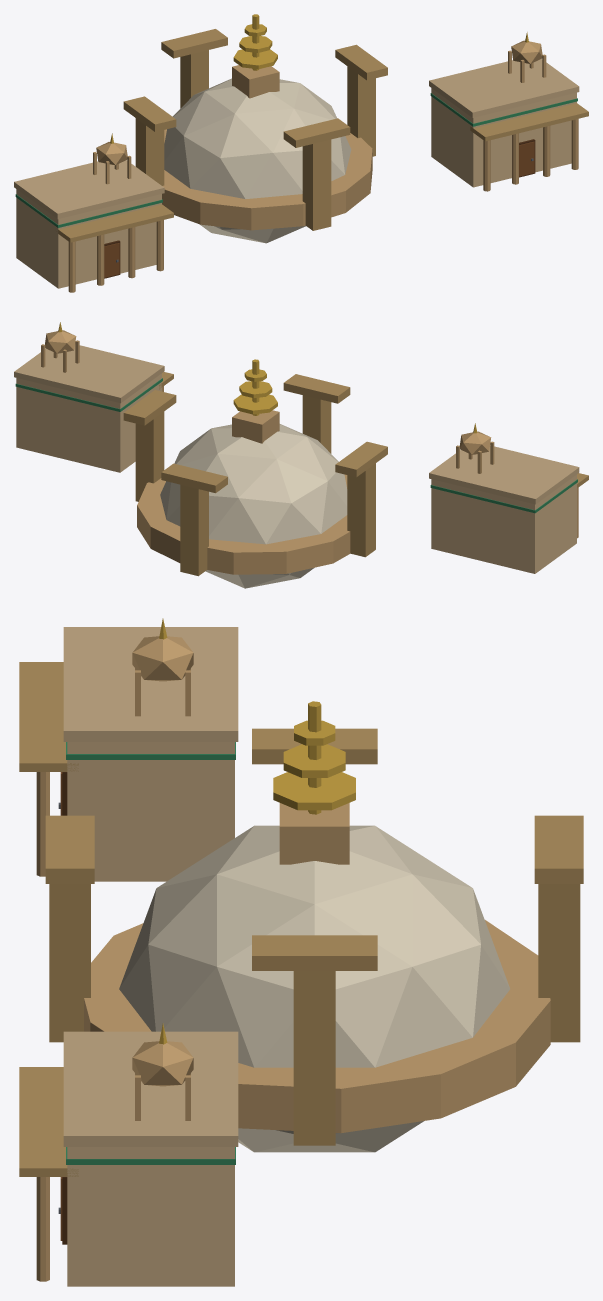
The model's file is cat_court.glb.
3 views of the same model, one above another, from view 1: azimuth 30°, elevation 25°; view 2: azimuth 150°, elevation 25°; view 3: azimuth 270°, elevation 25° (orthographic). The views are drawn at different scales.
Visible parts, largest first — view 1: cat_court; view 2: cat_court; view 3: cat_court.
Part boxes in pixels (bbox=[...]): cat_court: bbox=[14, 14, 588, 292]; cat_court: bbox=[14, 322, 588, 588]; cat_court: bbox=[19, 618, 583, 1286].
Size of the model in its own units: 6.04 by 2.41 by 2.83.
